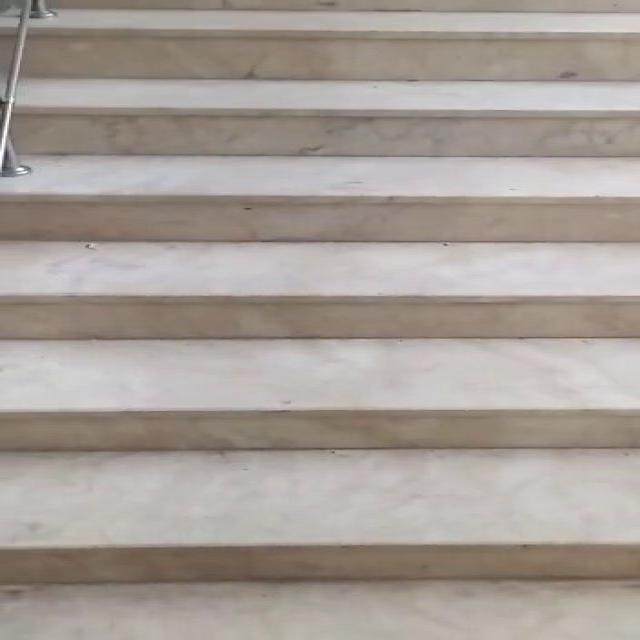stairs: (0, 0, 638, 588)
